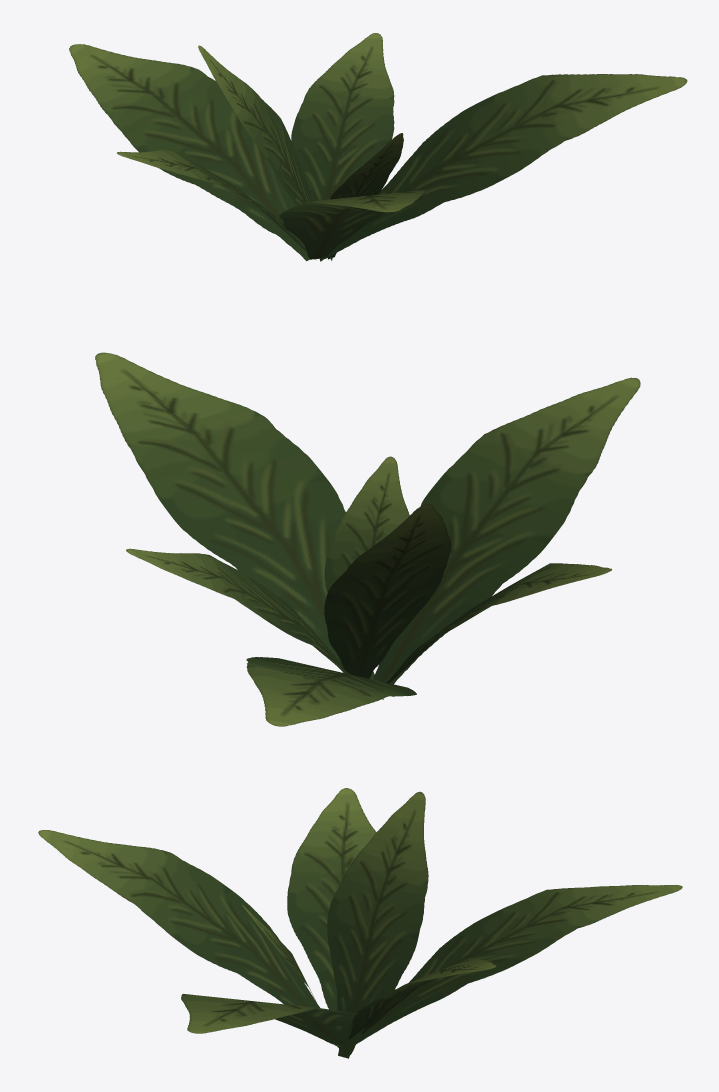
The model's file is LeafTufts_Mesh.fbx.
3 renders of one model, top to bottom at view 1: azimuth 30°, elevation 25°; view 2: azimuth 150°, elevation 25°; view 3: azimuth 270°, elevation 25°, orthographic. The views are drawn at different scales.
Parts seen in each view (by area): view 1: Plane.191; view 2: Plane.191; view 3: Plane.191.
Boxes of the visible parts, x1,y1,x2,y2 form: Plane.191: [69, 33, 687, 261]; Plane.191: [95, 352, 640, 726]; Plane.191: [38, 788, 682, 1058].
Size of the model in its own units: 0.3068 by 0.3345 by 0.1196.
